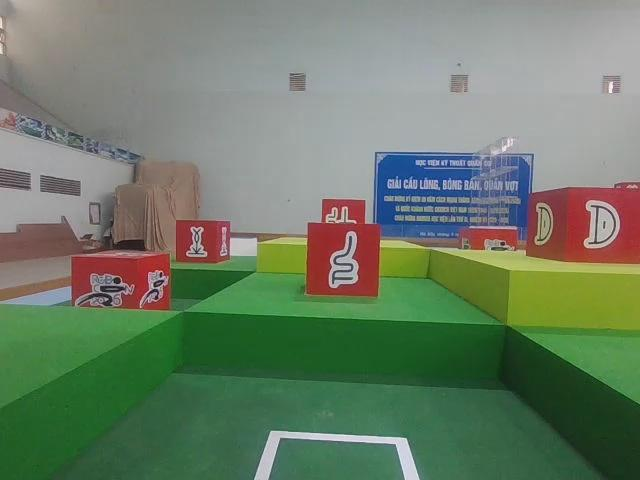R1: (67, 247, 173, 320)
R2 Fake: (303, 219, 383, 299)
R2 Real: (523, 183, 640, 267), (173, 215, 233, 267)
